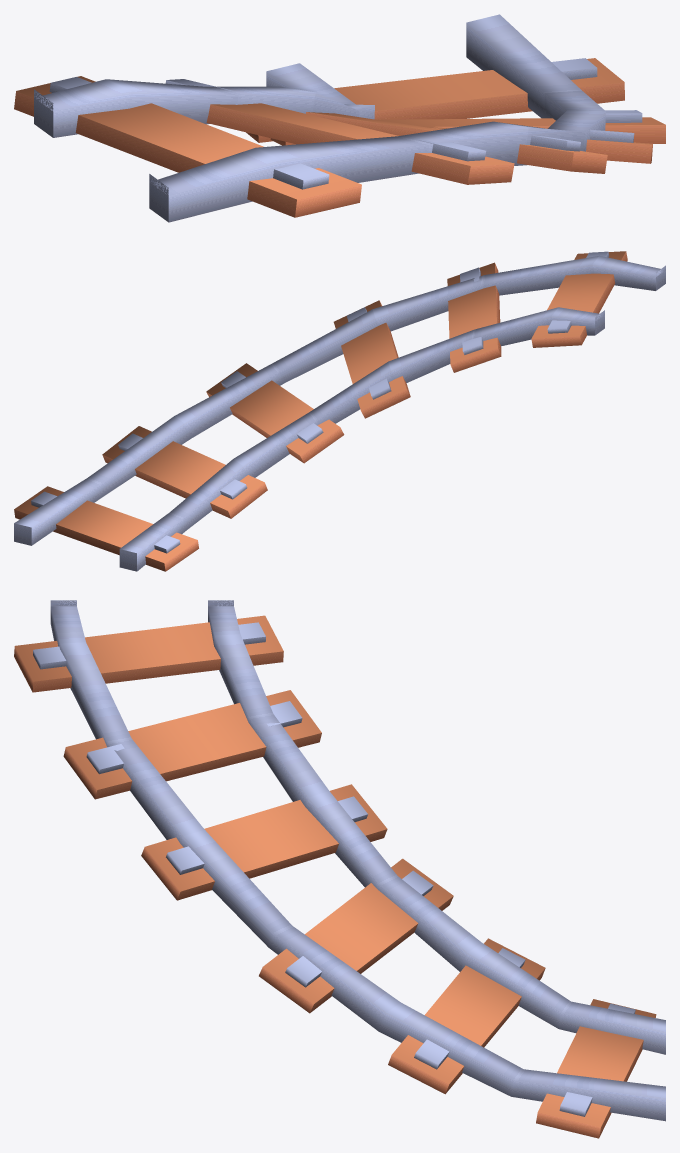
The model's file is railroad-damaged-corner-small-ramp.glb.
3 renders of one model, top to bottom at view 1: azimuth 30°, elevation 25°; view 2: azimuth 150°, elevation 25°; view 3: azimuth 270°, elevation 25°, orthographic. The views are drawn at different scales.
Parts seen in each view (by area): view 1: railroad-damaged-corner-small-ramp; view 2: railroad-damaged-corner-small-ramp; view 3: railroad-damaged-corner-small-ramp.
Boxes of the visible parts, x1,y1,x2,y2 form: railroad-damaged-corner-small-ramp: (14, 14, 665, 222); railroad-damaged-corner-small-ramp: (14, 251, 665, 571); railroad-damaged-corner-small-ramp: (14, 600, 665, 1138).
Size of the model in its own units: 2.49 by 1.11 by 2.49.
Materials: 1 (1 with a texture image).
